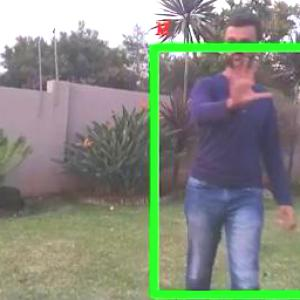follow_hand: (220, 52, 272, 110)
